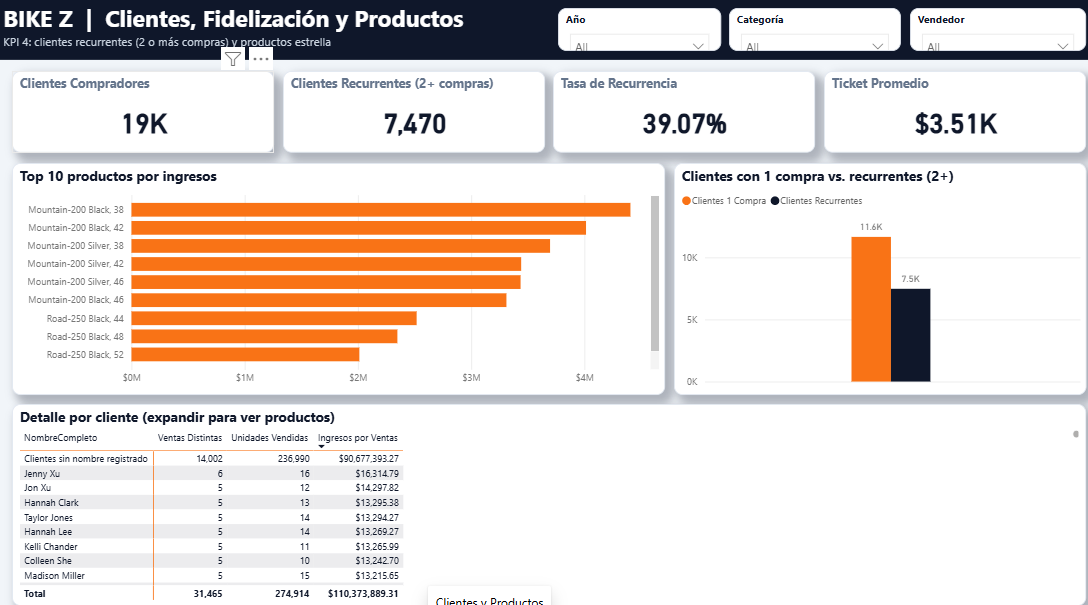

This screenshot's page, from the dashboard's own definition file:
{"tool":"powerbi","page":{"name":"Clientes y Productos","canvas":[1280,720],"ordinal":2},"visuals":[{"type":"textbox","box":[0,0,1280,72],"z":1000},{"type":"slicer","title":"Año","fields":{"Values":["Dim_Tiempo.Anio"]},"box":[650,12,190,50],"z":2000},{"type":"slicer","title":"Categoría","fields":{"Values":["Dim_Producto.Categoria"]},"box":[850,12,200,50],"z":3000},{"type":"slicer","title":"Vendedor","fields":{"Values":["Dim_Empleado.TipoVendedor"]},"box":[1060,12,205,50],"z":4000},{"type":"card","title":"Clientes Compradores","fields":{"Values":["_Medidas.Clientes Compradores"]},"box":[15,85,305,95],"z":5000},{"type":"card","title":"Clientes Recurrentes (2+ compras)","fields":{"Values":["_Medidas.Clientes Recurrentes"]},"box":[330,85,305,95],"z":6000},{"type":"card","title":"Tasa de Recurrencia","fields":{"Values":["_Medidas.% Clientes Recurrentes"]},"box":[645,85,305,95],"z":7000},{"type":"card","title":"Ticket Promedio","fields":{"Values":["_Medidas.Ticket Promedio"]},"box":[960,85,305,95],"z":8000},{"type":"clusteredBarChart","title":"Top 10 productos por ingresos","fields":{"Category":["Dim_Producto.Nombre_Producto"],"Y":["_Medidas.Ingresos por Ventas"]},"box":[15,192,760,270],"z":9000},{"type":"clusteredColumnChart","title":"Clientes con 1 compra vs. recurrentes (2+)","fields":{"Y":["_Medidas.Clientes 1 Compra","_Medidas.Clientes Recurrentes"]},"box":[785,192,480,270],"z":10000},{"type":"pivotTable","title":"Detalle por cliente (expandir para ver productos)","fields":{"Rows":["Dim_Cliente.NombreCompleto","Dim_Producto.Nombre_Producto"],"Values":["_Medidas.Ventas Distintas","_Medidas.Unidades Vendidas","_Medidas.Ingresos por Ventas"]},"box":[15,472,1250,235],"z":11000}]}

Visuals, with their boxes in screenshot pixels (x1, y1, x2, y2), scaled from the page's 1280x720 canvas onto the 1088x605 screenshot:
textbox: 0/0/1087/60
"Año" slicer: 552/10/714/52
"Categoría" slicer: 722/10/892/52
"Vendedor" slicer: 901/10/1075/52
"Clientes Compradores" card: 13/71/272/151
"Clientes Recurrentes (2+ compras)" card: 280/71/540/151
"Tasa de Recurrencia" card: 548/71/808/151
"Ticket Promedio" card: 816/71/1075/151
"Top 10 productos por ingresos" clusteredBarChart: 13/161/659/388
"Clientes con 1 compra vs. recurrentes (2+)" clusteredColumnChart: 667/161/1075/388
"Detalle por cliente (expandir para ver productos)" pivotTable: 13/397/1075/594
